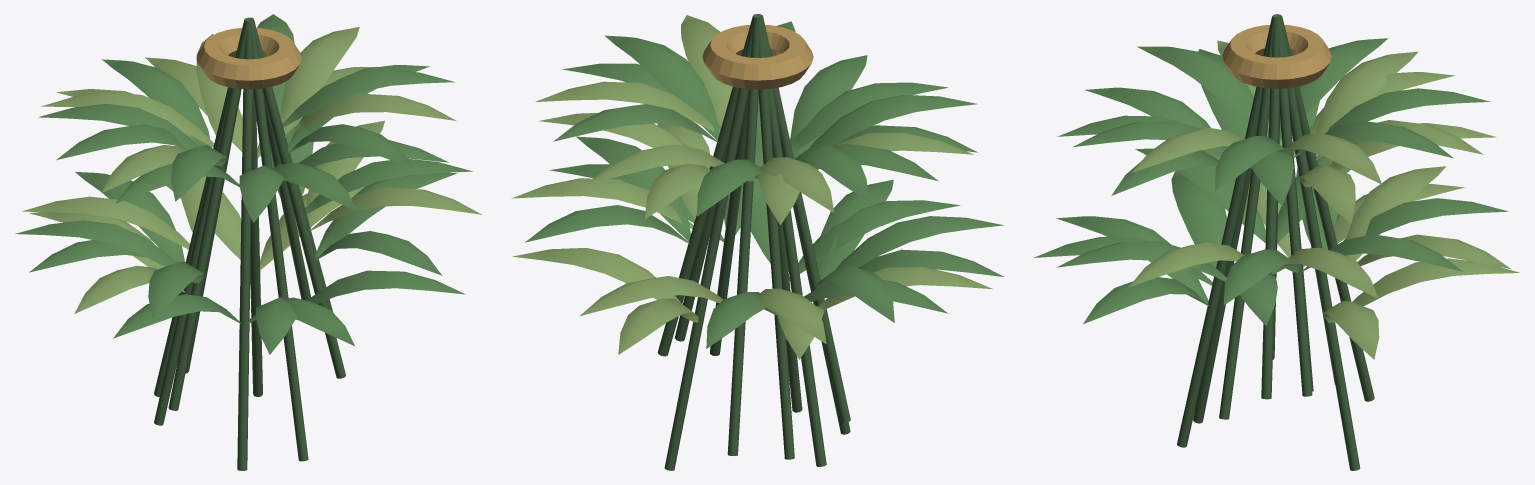
File: SM_HH_Q3_HerbBundle.fbx
The picture shows the model from 3 angles, left to right: view 1: azimuth 30°, elevation 25°; view 2: azimuth 150°, elevation 25°; view 3: azimuth 270°, elevation 25°; orthographic projection. The views are drawn at different scales.
Parts seen in each view (by area): view 1: HH_Q3_HerbBundle; view 2: HH_Q3_HerbBundle; view 3: HH_Q3_HerbBundle.
Part boxes in pixels (box(x1,y1,x2,y2)): HH_Q3_HerbBundle: box(15, 14, 481, 470); HH_Q3_HerbBundle: box(511, 14, 1003, 470); HH_Q3_HerbBundle: box(1034, 14, 1519, 470).
Size of the model in its own units: 0.56 by 0.5569 by 0.5455.
